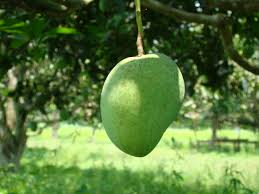mango: (94, 53, 199, 157)
